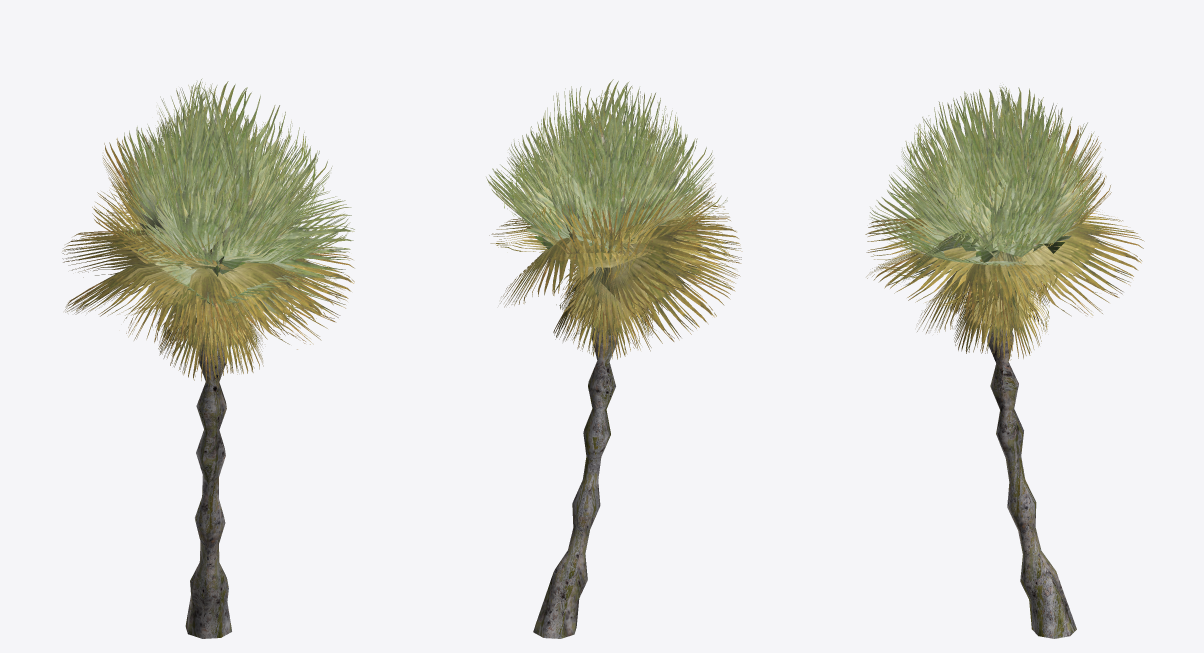
The model's file is CycadeTree_01.DAE.
3 views of the same model, side by side, from view 1: azimuth 30°, elevation 25°; view 2: azimuth 150°, elevation 25°; view 3: azimuth 270°, elevation 25° (orthographic). The views are drawn at different scales.
Visible parts, largest first — view 1: CycadeOne300; view 2: CycadeOne300; view 3: CycadeOne300.
Part boxes in pixels (x1,y1,x2,y2): CycadeOne300: (62, 78, 354, 638); CycadeOne300: (486, 79, 742, 638); CycadeOne300: (865, 84, 1144, 638).
Size of what is drawn, in the model's own units: 4.1 by 3.96 by 6.9.
